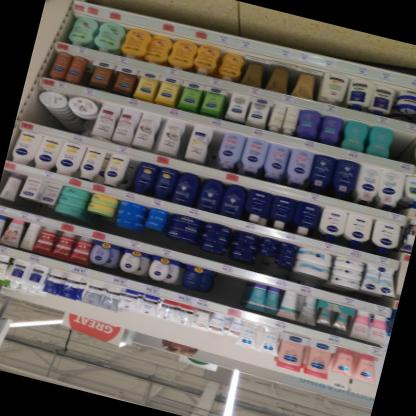empty_space: (209, 272, 249, 308), (207, 128, 225, 164), (392, 132, 414, 160)
